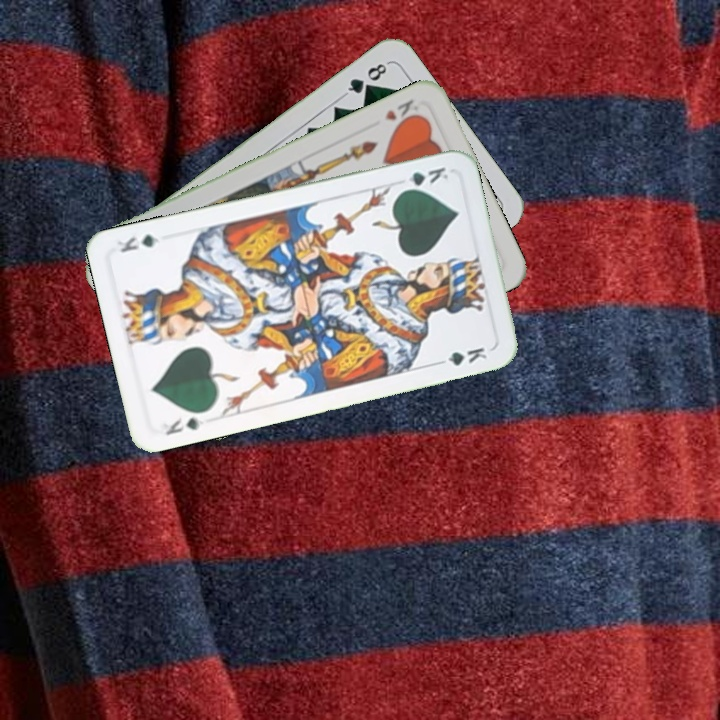G8: (340, 58, 391, 99)
GK: (396, 163, 451, 195), (161, 413, 206, 438)
HK: (380, 95, 425, 129)
